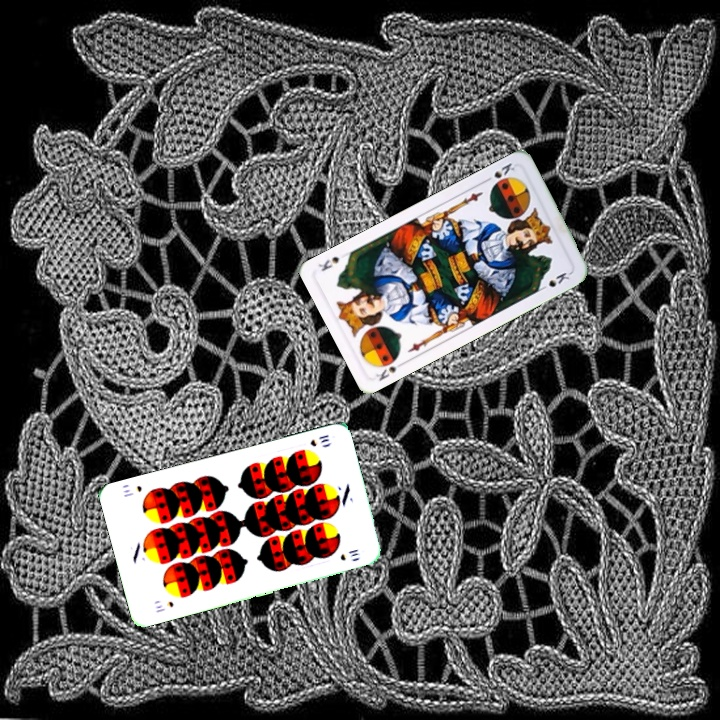S10: (306, 431, 332, 449), (152, 597, 176, 615)
SK: (480, 159, 518, 185), (371, 357, 407, 384)
